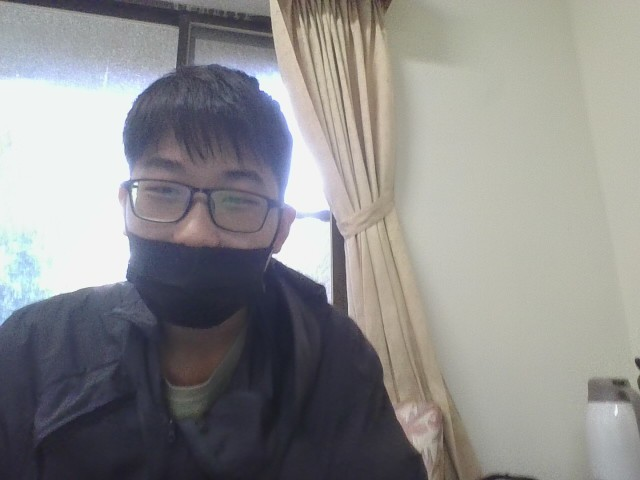No_Helmet: (116, 60, 295, 255)
person: (0, 44, 495, 480)
